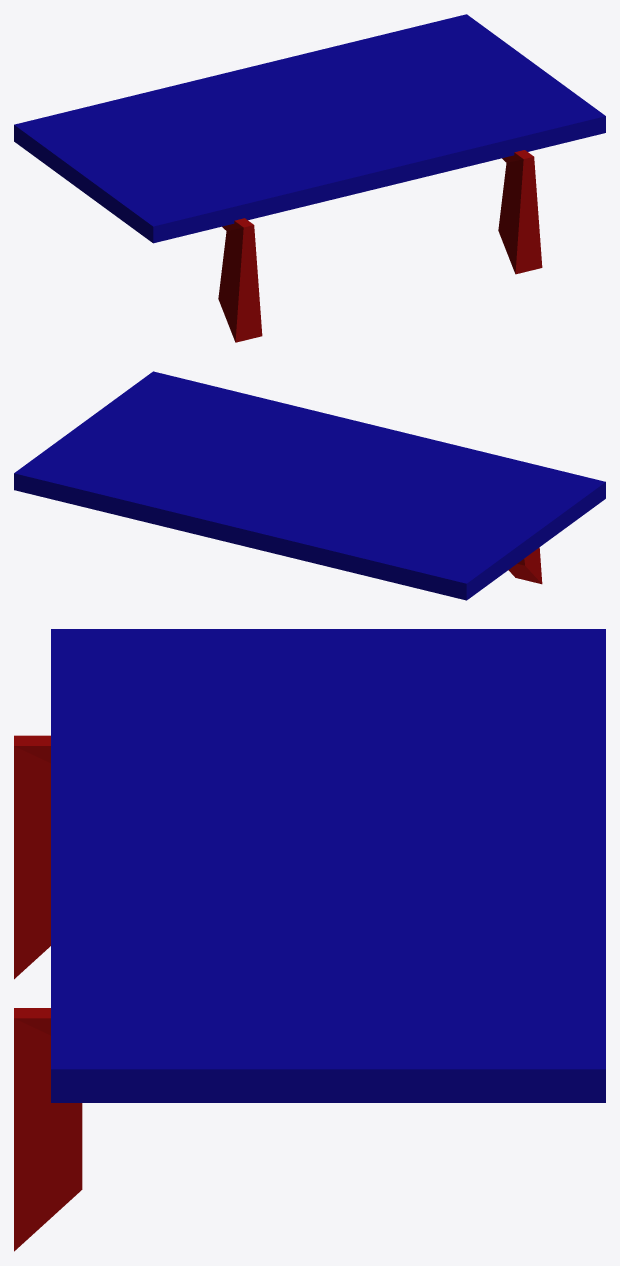
Rendered from Etagere.FBX.
3 views of the same model, one above another, from view 1: azimuth 30°, elevation 25°; view 2: azimuth 150°, elevation 25°; view 3: azimuth 270°, elevation 25° (orthographic). The views are drawn at different scales.
Parts seen in each view (by area): view 1: Etagere; view 2: Etagere; view 3: Etagere.
Part boxes in pixels (x1,y1,x2,y2): Etagere: (14,14,605,342); Etagere: (14,371,605,600); Etagere: (14,629,605,1251).
Bounding box in the file's own units: 141 × 80.02 × 37.8.
